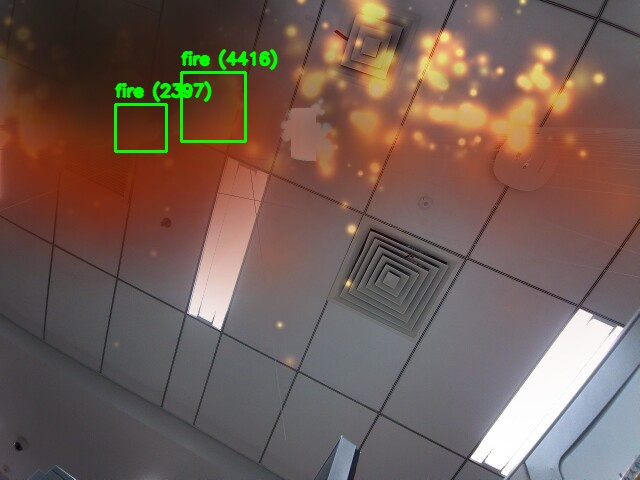fire: (181, 72, 245, 141), (115, 104, 166, 151)
